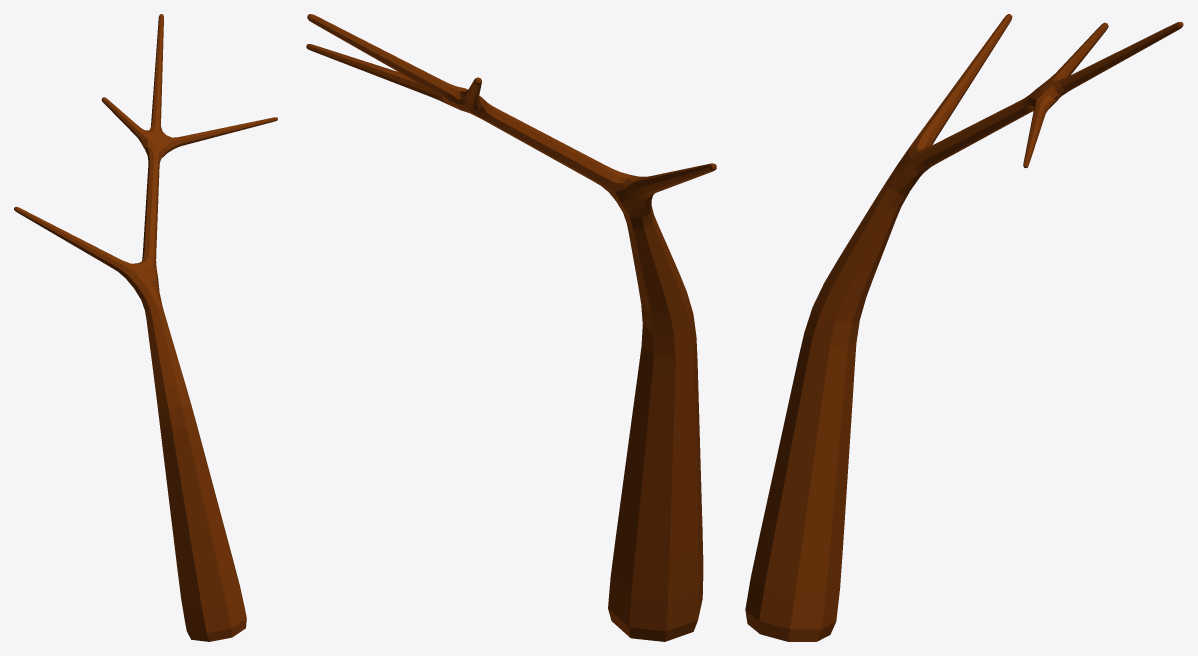
The model's file is twik1.obj.
3 views of the same model, side by side, from view 1: azimuth 30°, elevation 25°; view 2: azimuth 150°, elevation 25°; view 3: azimuth 270°, elevation 25° (orthographic). The views are drawn at different scales.
Parts seen in each view (by area): view 1: Cube; view 2: Cube; view 3: Cube.
Part boxes in pixels (x1=…): Cube: x1=14, y1=14, x2=277, y2=641; Cube: x1=306, y1=14, x2=716, y2=641; Cube: x1=745, y1=14, x2=1183, y2=641.
Size of the model in its own units: 2.31 by 4.04 by 2.39.
Materials: 1 (1 with a texture image).
